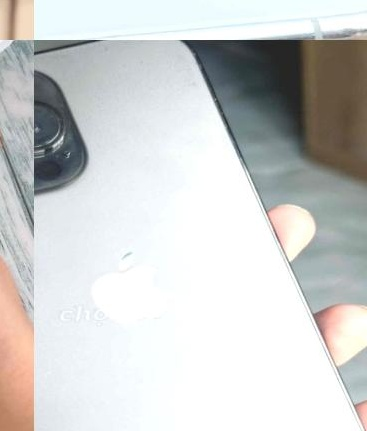scratch: (80, 40, 205, 102), (288, 14, 367, 40)
